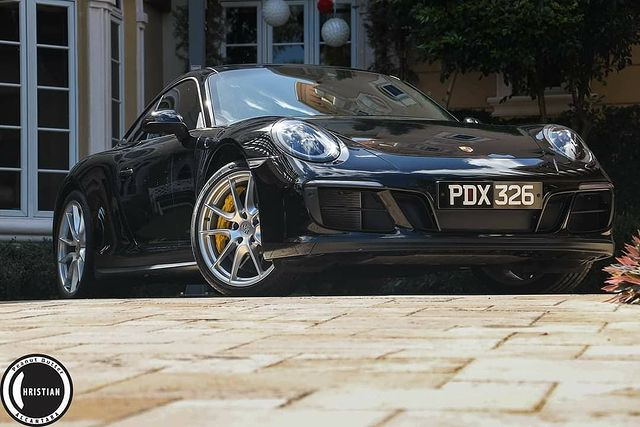License-Plate: (438, 181, 541, 207)
